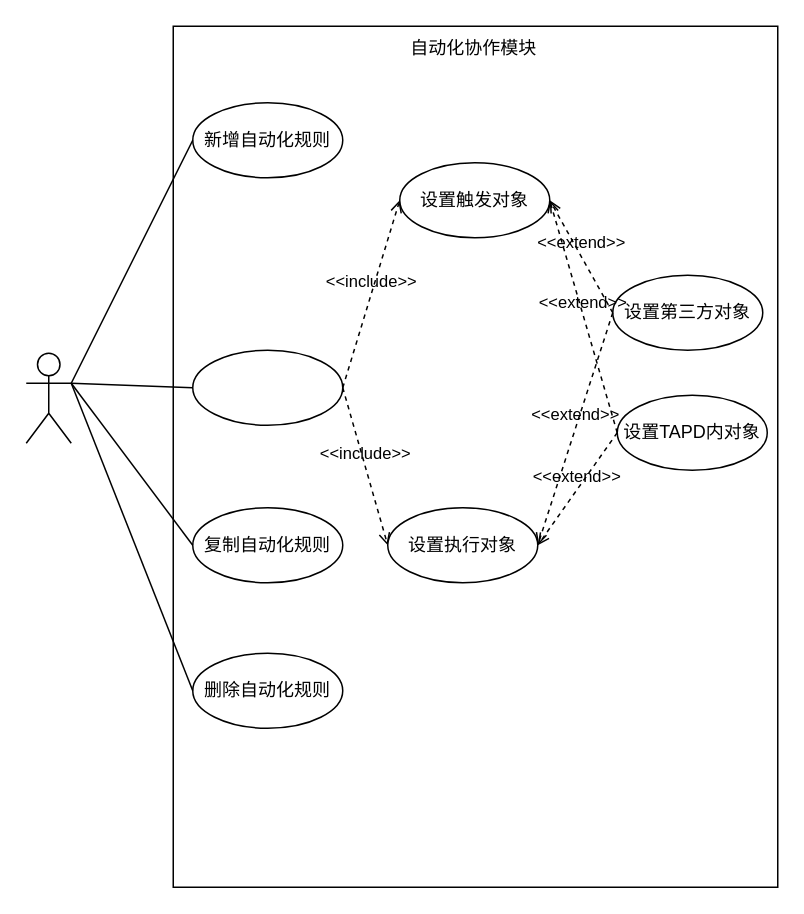
This 804x914 diagram has some shape labels left out. Each missing label, with the box of its shape:
用户: (25, 352, 71, 443)
编辑自动化规则: (191, 349, 343, 425)
